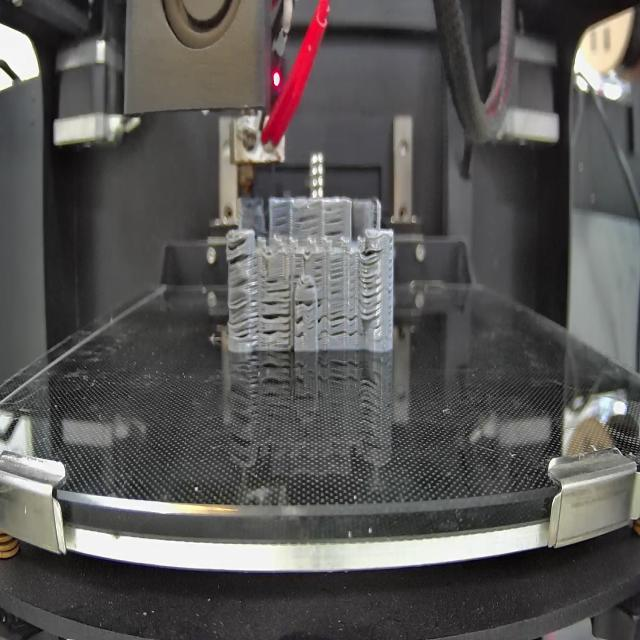cracks: (231, 278, 258, 342), (359, 250, 382, 318), (262, 299, 291, 344), (225, 235, 254, 264), (329, 308, 347, 339), (294, 210, 318, 232), (329, 260, 343, 296), (317, 299, 328, 341), (266, 278, 291, 294), (327, 211, 343, 235), (274, 215, 291, 231), (294, 251, 304, 278), (348, 311, 359, 333), (296, 314, 305, 339), (296, 297, 315, 307), (314, 258, 322, 281), (374, 326, 382, 341), (305, 283, 314, 291)
